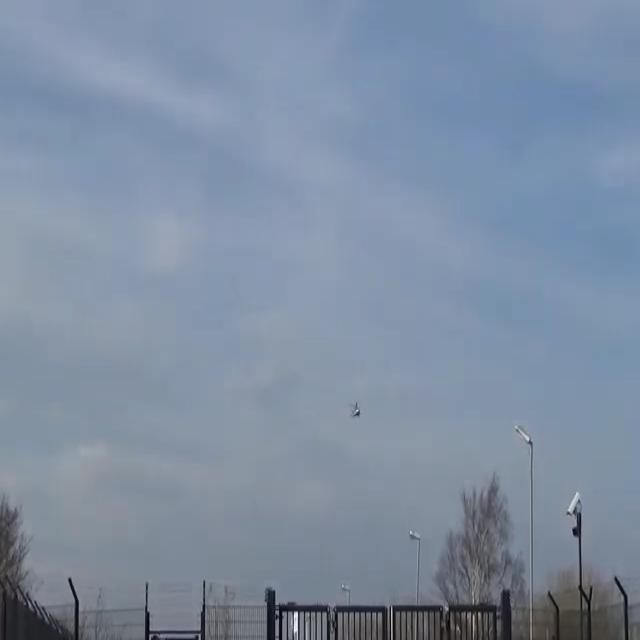Helicopter: (346, 395, 366, 424)
